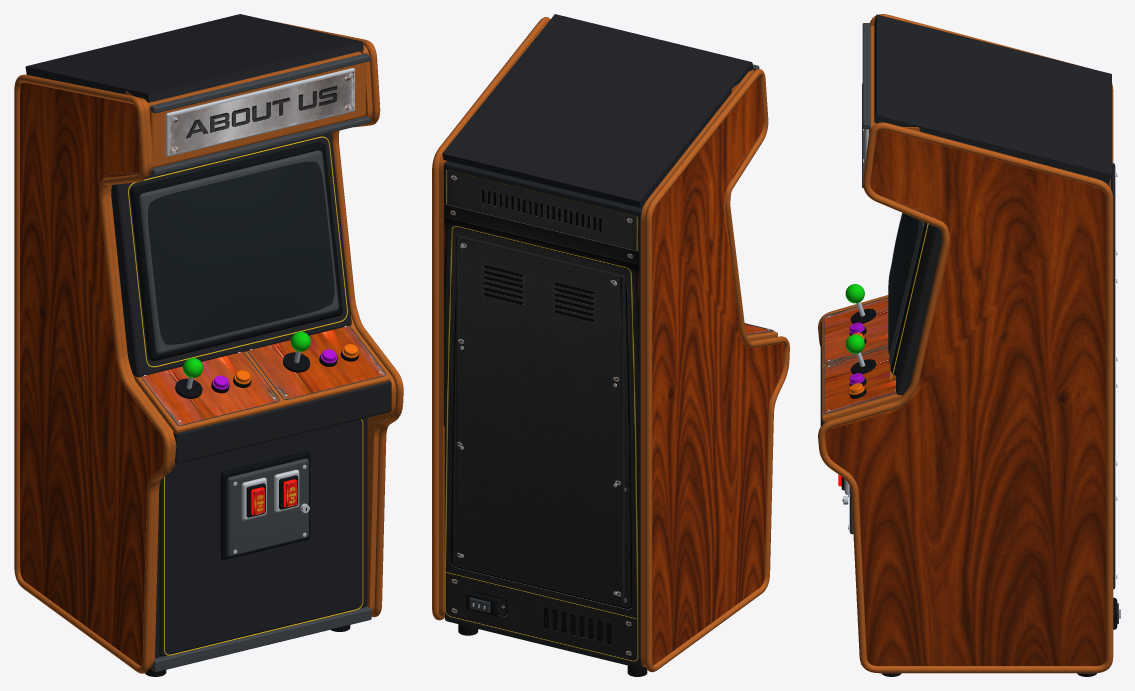
File: about-us.glb
The picture shows the model from 3 angles, left to right: view 1: azimuth 30°, elevation 25°; view 2: azimuth 150°, elevation 25°; view 3: azimuth 270°, elevation 25°; orthographic projection. The views are drawn at different scales.
Visible parts, largest first — view 1: Cabinet_Static, Screen_Display; view 2: Cabinet_Static; view 3: Cabinet_Static, Screen_Display.
Part boxes in pixels (<box>): Cabinet_Static: <box>14,14,403,676</box>; Screen_Display: <box>148,161,334,344</box>; Cabinet_Static: <box>432,14,789,676</box>; Cabinet_Static: <box>818,14,1120,676</box>; Screen_Display: <box>888,213,918,353</box>.
Size of the model in its own units: 0.764 by 1.8 by 0.8746.
Materials: 16 (4 with a texture image).
